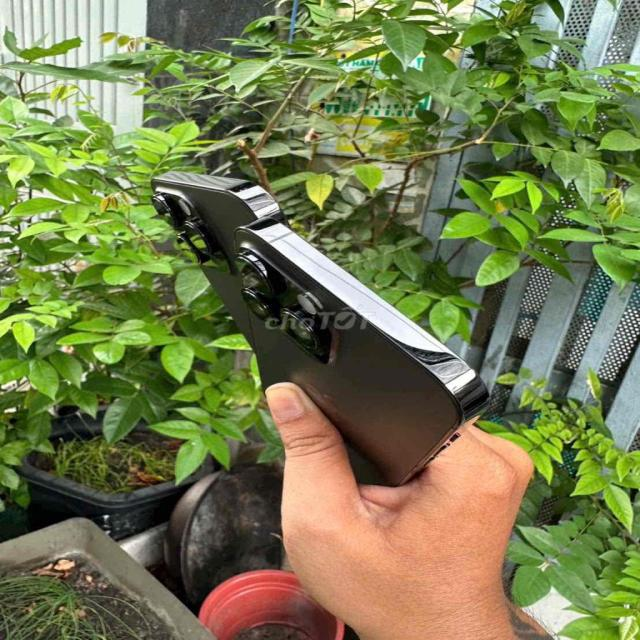gen_14: (228, 218, 489, 480)
